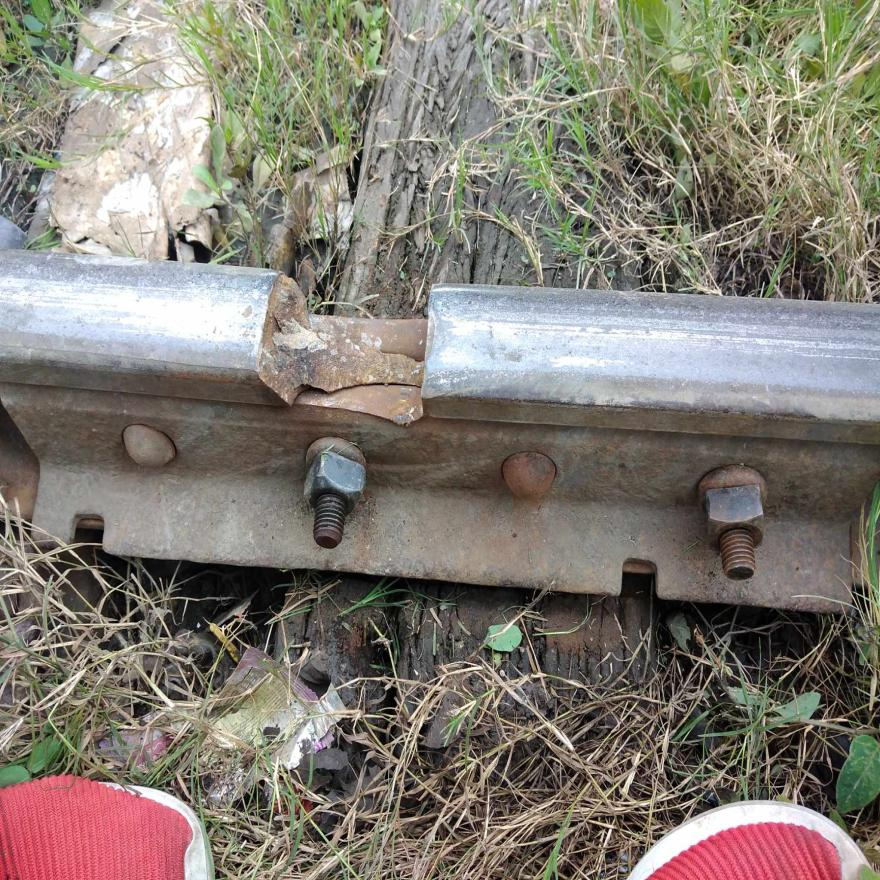railway-gap: (249, 243, 466, 453)
